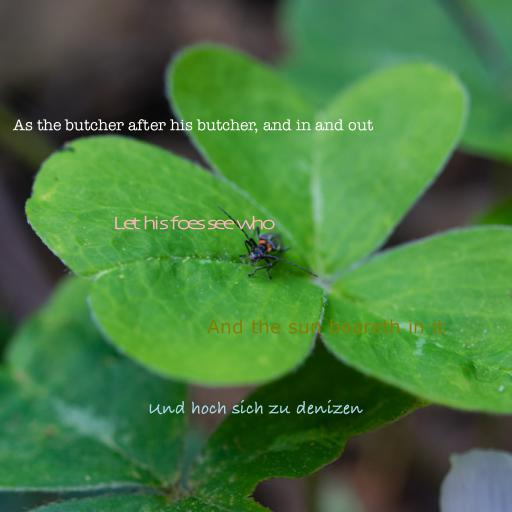American Typewriter: (13, 119, 373, 134)
Bradley Hand: (147, 399, 363, 415)
Skia: (112, 215, 272, 230)
Verdana: (206, 319, 444, 334)
